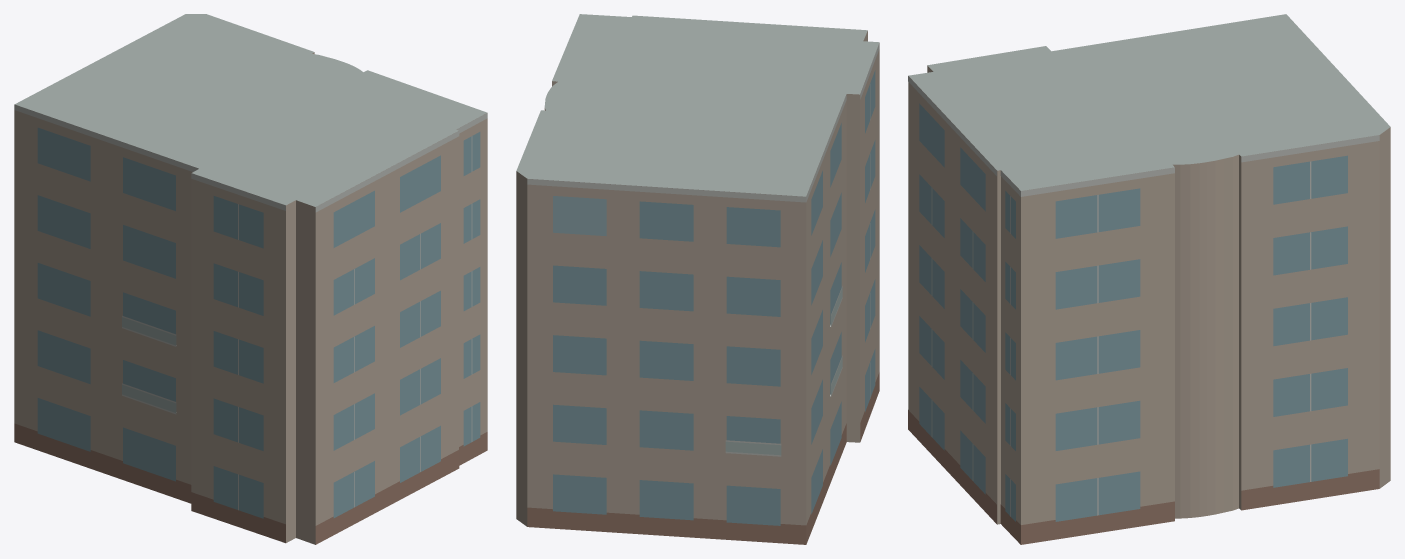
The model's file is survey-upis-32942326.glb.
The picture shows the model from 3 angles, left to right: view 1: azimuth 30°, elevation 25°; view 2: azimuth 150°, elevation 25°; view 3: azimuth 270°, elevation 25°; orthographic projection. The views are drawn at different scales.
Parts seen in each view (by area): view 1: survey-upis-32942326.tmp; view 2: survey-upis-32942326.tmp; view 3: survey-upis-32942326.tmp.
Part boxes in pixels (x1=…): survey-upis-32942326.tmp: x1=14, y1=14, x2=487, y2=544; survey-upis-32942326.tmp: x1=516, y1=14, x2=879, y2=544; survey-upis-32942326.tmp: x1=908, y1=14, x2=1390, y2=544.
Size of the model in its own units: 15.67 by 14.6 by 18.05.
